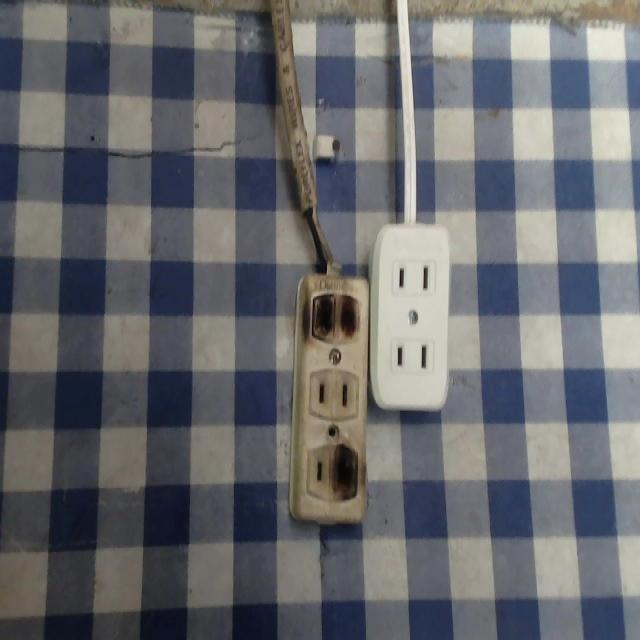-: (309, 292, 367, 344), (328, 443, 362, 497)
